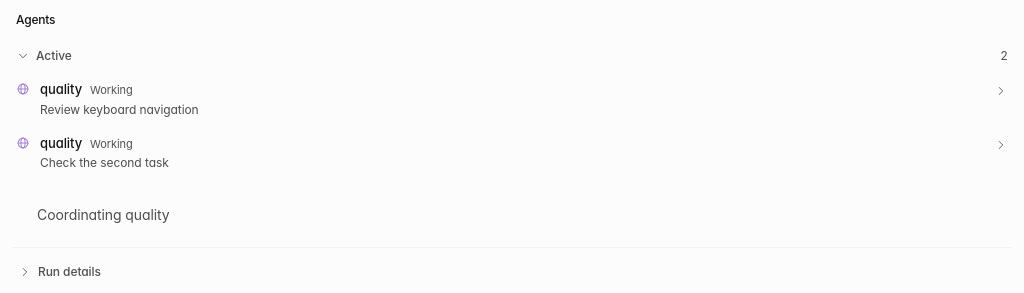
Test: agent activity navigation and terminal state › keeps concurrent tasks from the same profile independently selectable
Click the button with aria-label "Show details for".
click(61, 142)  # box [8,126,1016,179]
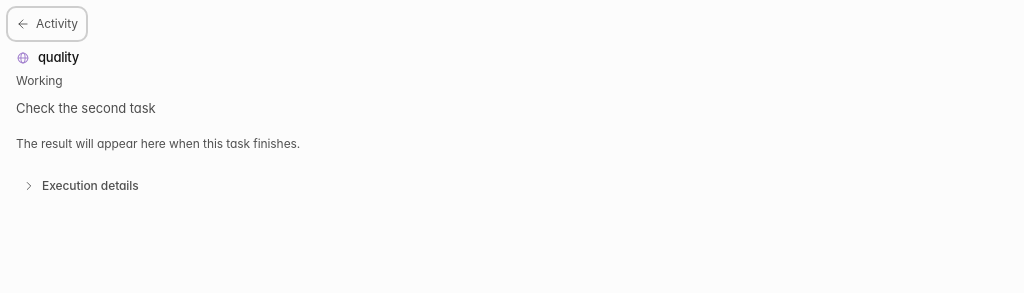
Expected: the text "Check the second task" is shown, [16,100,156,116]
Expected: the button "Review keyboard navigation" is gone
